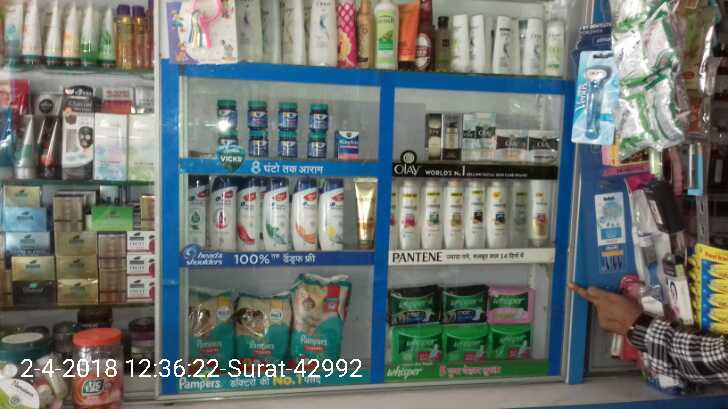vicks: (334, 129, 360, 159), (248, 128, 271, 158), (217, 98, 239, 128), (248, 100, 270, 128), (217, 129, 239, 156), (308, 103, 329, 130), (277, 130, 297, 158), (308, 130, 327, 159), (277, 101, 296, 130)
